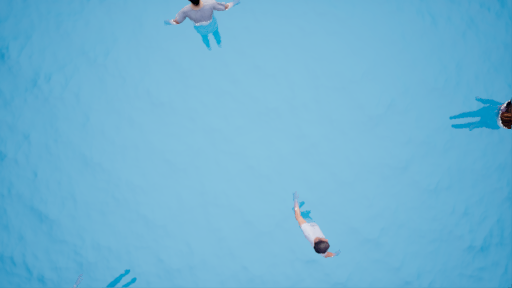person: (160, 1, 242, 54), (285, 189, 343, 261)
